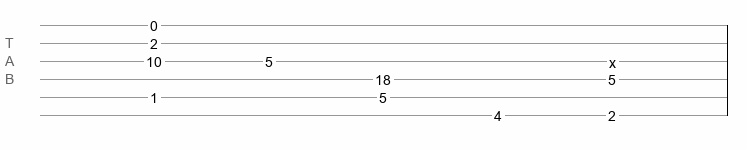0: (150, 18, 158, 28)
1: (150, 90, 158, 100)
10: (146, 54, 162, 64)
18: (375, 72, 391, 82)
2: (150, 36, 158, 46), (608, 108, 616, 118)
4: (494, 108, 502, 118)
5: (265, 54, 273, 64), (379, 90, 387, 100), (608, 72, 616, 82)
x: (609, 55, 616, 63)
